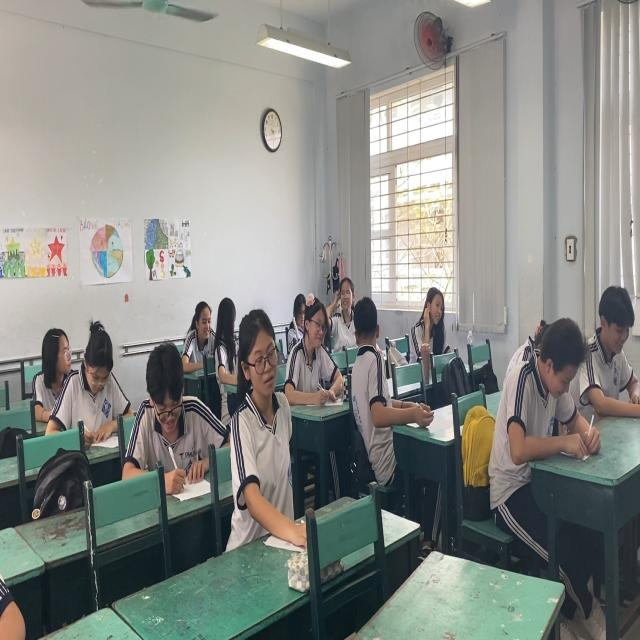cheating: (353, 299, 391, 430)
not_cheating: (502, 320, 597, 471), (232, 312, 290, 503), (587, 285, 640, 426), (134, 340, 189, 440), (74, 313, 125, 413), (292, 291, 327, 395), (212, 286, 246, 382), (28, 330, 78, 395), (414, 288, 448, 354), (183, 298, 216, 364), (326, 272, 356, 340)
